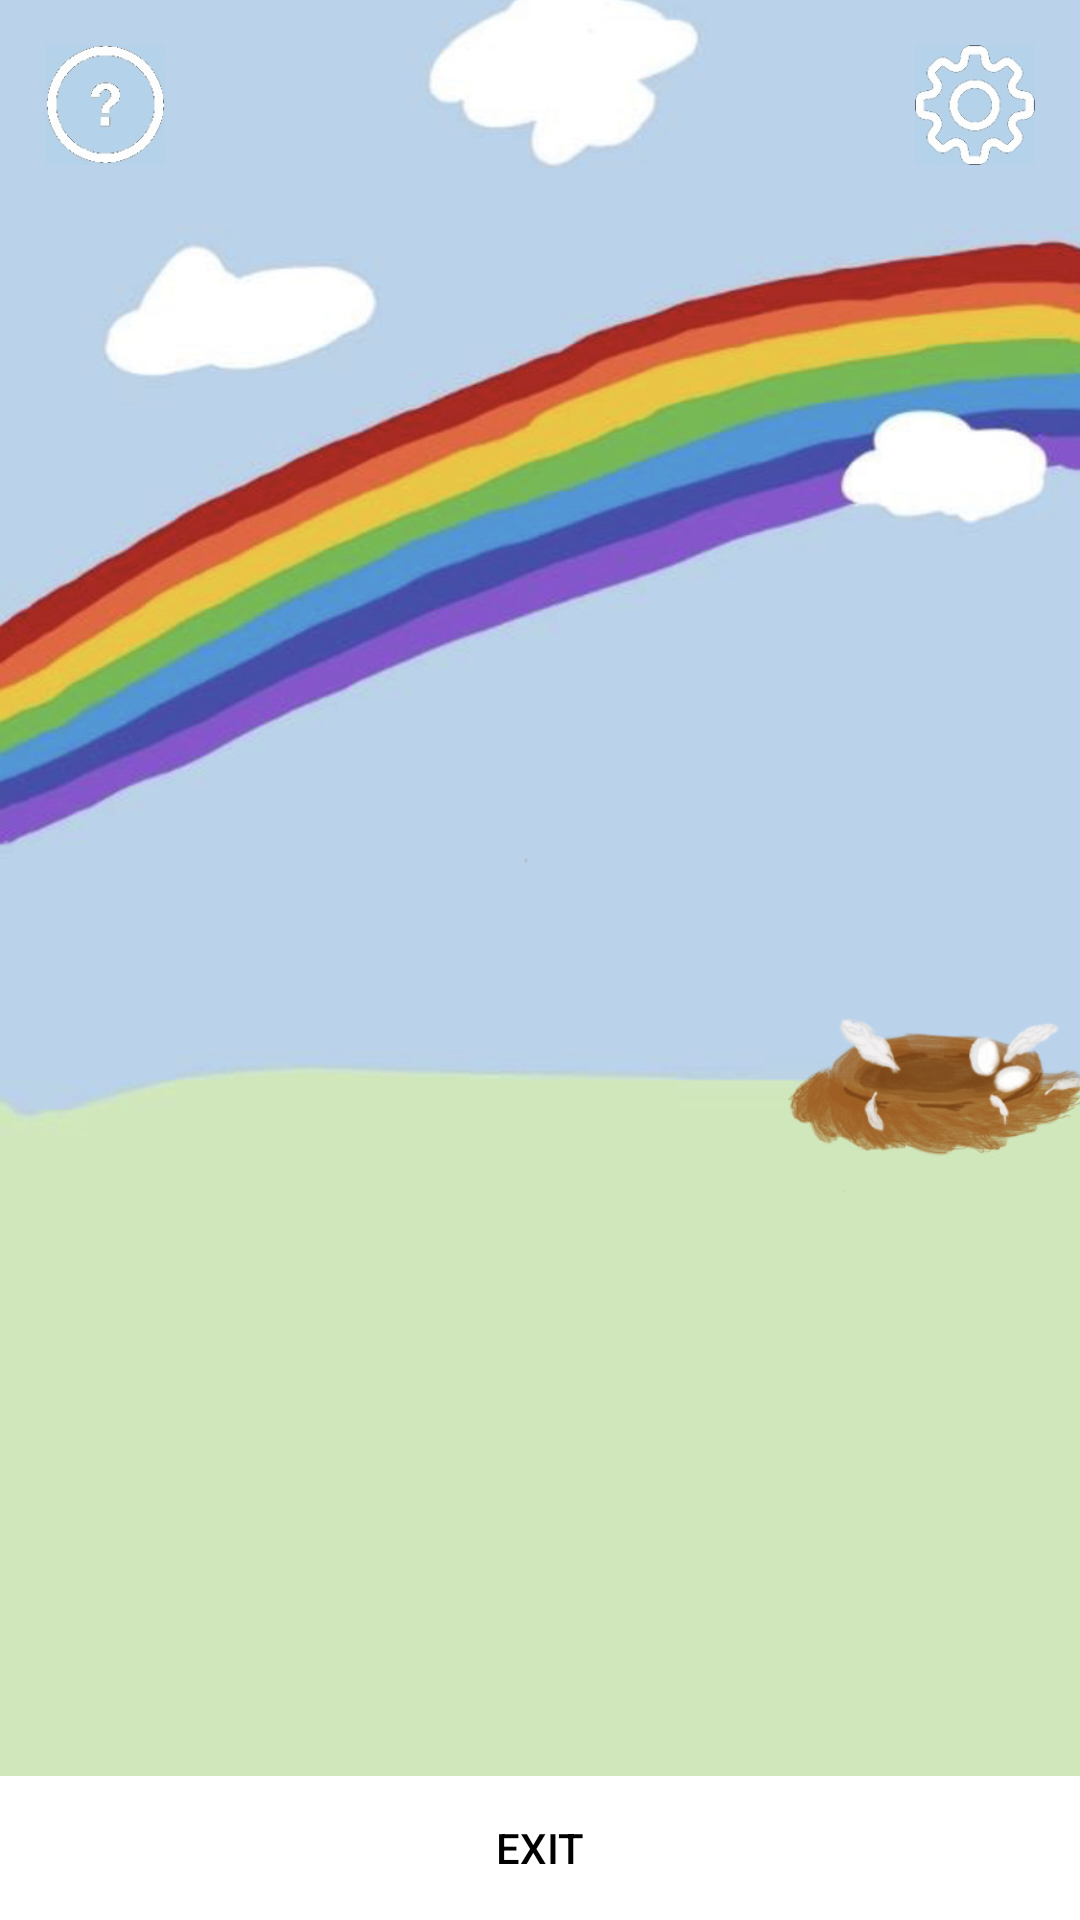

Icon click points for this 1080w x 1920h phone screenshot, format (x,y):
play ins: (105,104)
play set: (975,105)
